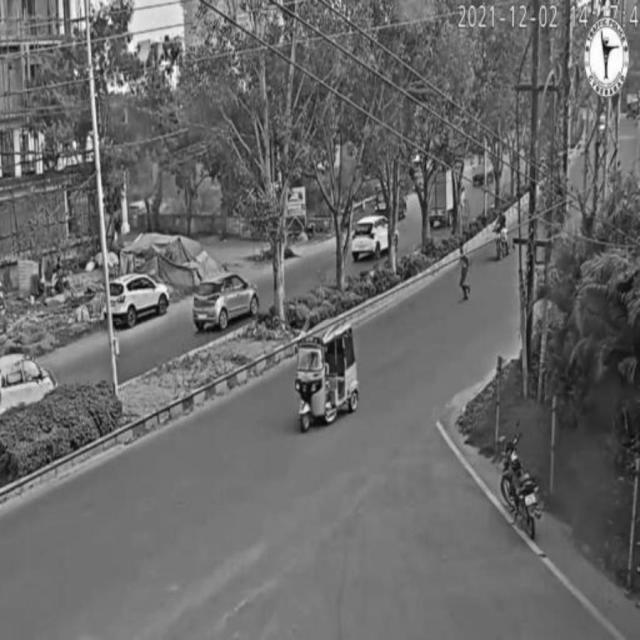person: (455, 238, 475, 302)
vehicle: (295, 319, 359, 431), (501, 433, 539, 554), (109, 265, 173, 329), (3, 343, 59, 416), (194, 272, 260, 330), (354, 212, 399, 258), (495, 207, 513, 263)
